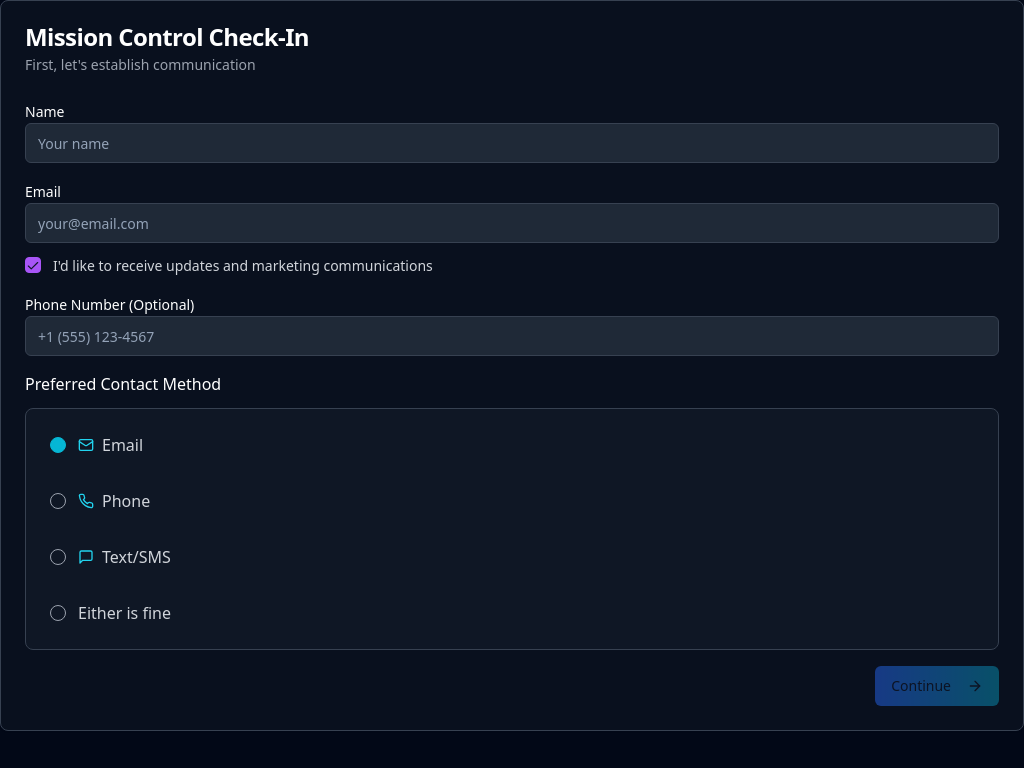
Test: LaunchControlQualificationForm › Contact Form Validation › validates required fields
Expected: the button "Continue" is disabled, [875,666,999,706]
// Fill in name
Type "John Doe" into the field labelled "Name" at (512, 143), box [25,123,999,163]
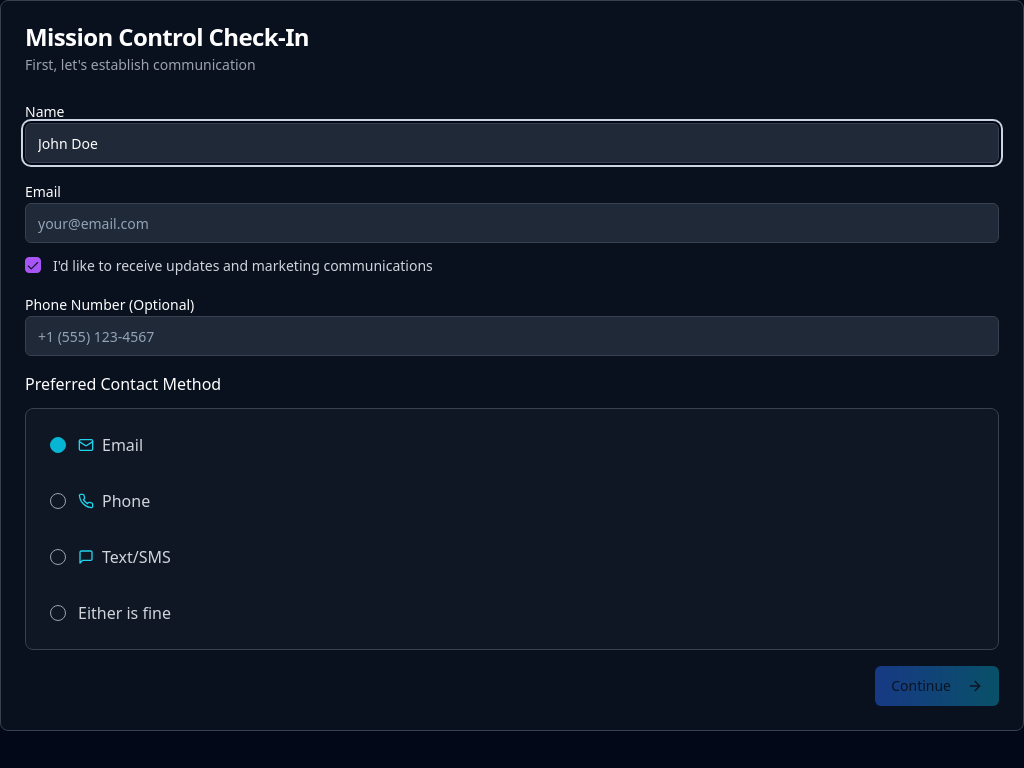
Expected: the button "Continue" is disabled, [875,666,999,706]
// Fill in email - use placeholder text to avoid ambiguity with email radio button
Type "john@example.com" into the field with placeholder "your@email.com" at (512, 223), box [25,203,999,243]
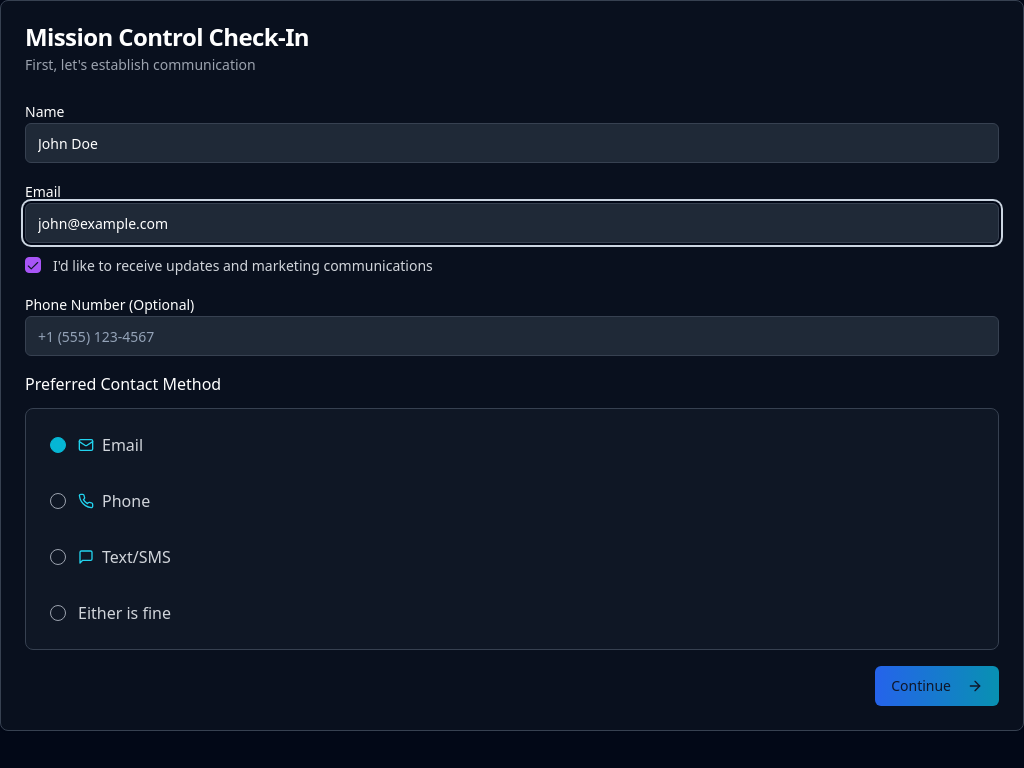
Expected: the button "Continue" is enabled, [875,666,999,706]
